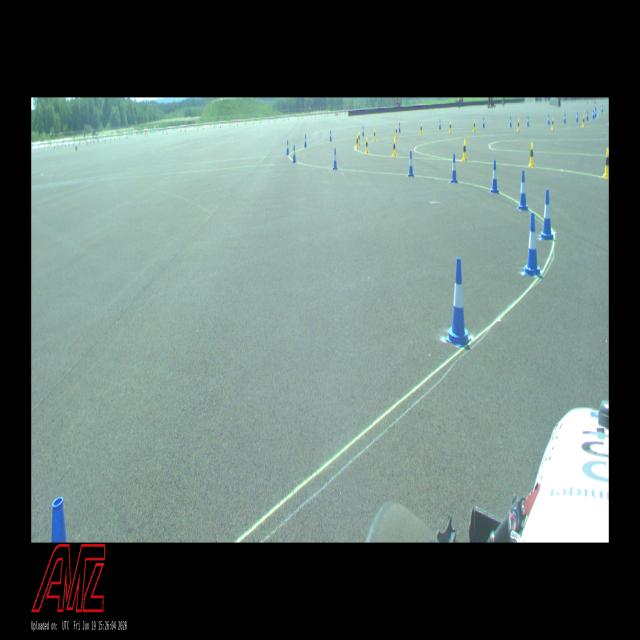blue_cone: (446, 259, 471, 346), (524, 213, 541, 275), (51, 497, 67, 542), (541, 190, 553, 239), (518, 171, 528, 210), (491, 160, 498, 193), (451, 154, 458, 182), (408, 151, 414, 176), (332, 148, 338, 170), (292, 145, 296, 162), (286, 140, 290, 154), (304, 134, 307, 148), (329, 128, 332, 141), (362, 126, 364, 136), (510, 117, 512, 126), (483, 118, 485, 127), (576, 112, 578, 121), (527, 117, 529, 126), (594, 108, 596, 117), (439, 120, 441, 128), (601, 105, 603, 112), (587, 110, 588, 120), (548, 115, 549, 124), (399, 123, 400, 132), (593, 110, 594, 118), (564, 114, 565, 122)
yellow_cone: (529, 143, 534, 166), (604, 149, 608, 177), (462, 140, 467, 160), (392, 138, 397, 156), (365, 137, 368, 153), (449, 121, 452, 132), (356, 135, 358, 149), (395, 125, 397, 138), (552, 118, 554, 130), (473, 120, 475, 132), (358, 132, 360, 144), (582, 115, 584, 126), (420, 124, 422, 134), (517, 120, 519, 130), (374, 130, 375, 140)
